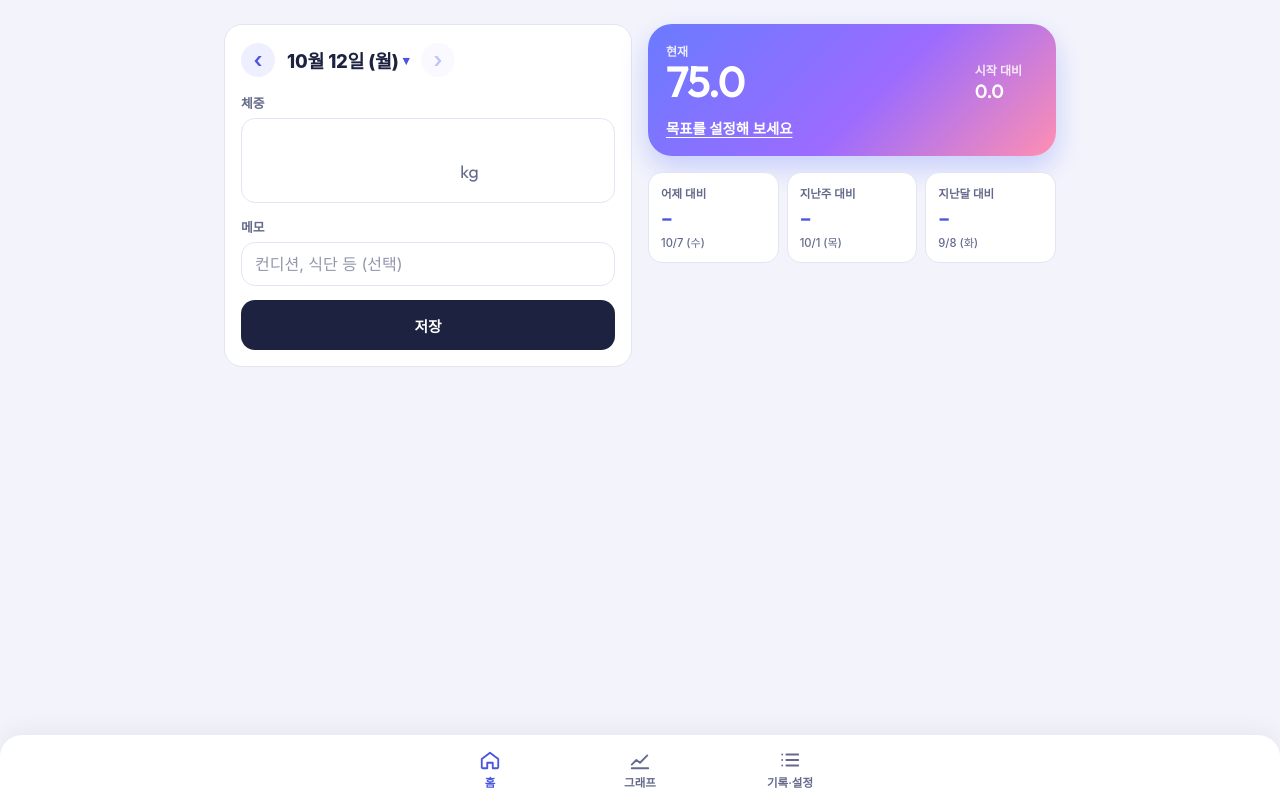
Test case: home screen › opens the calendar from the date title instead of a separate date field
The width and height of the screenshot is (1280, 800).
Expected: the navigation bar is shown, [0,735,1279,799]
Click the button "10월 12일 (월) ▾" at (348, 60), box [279,41,417,79]
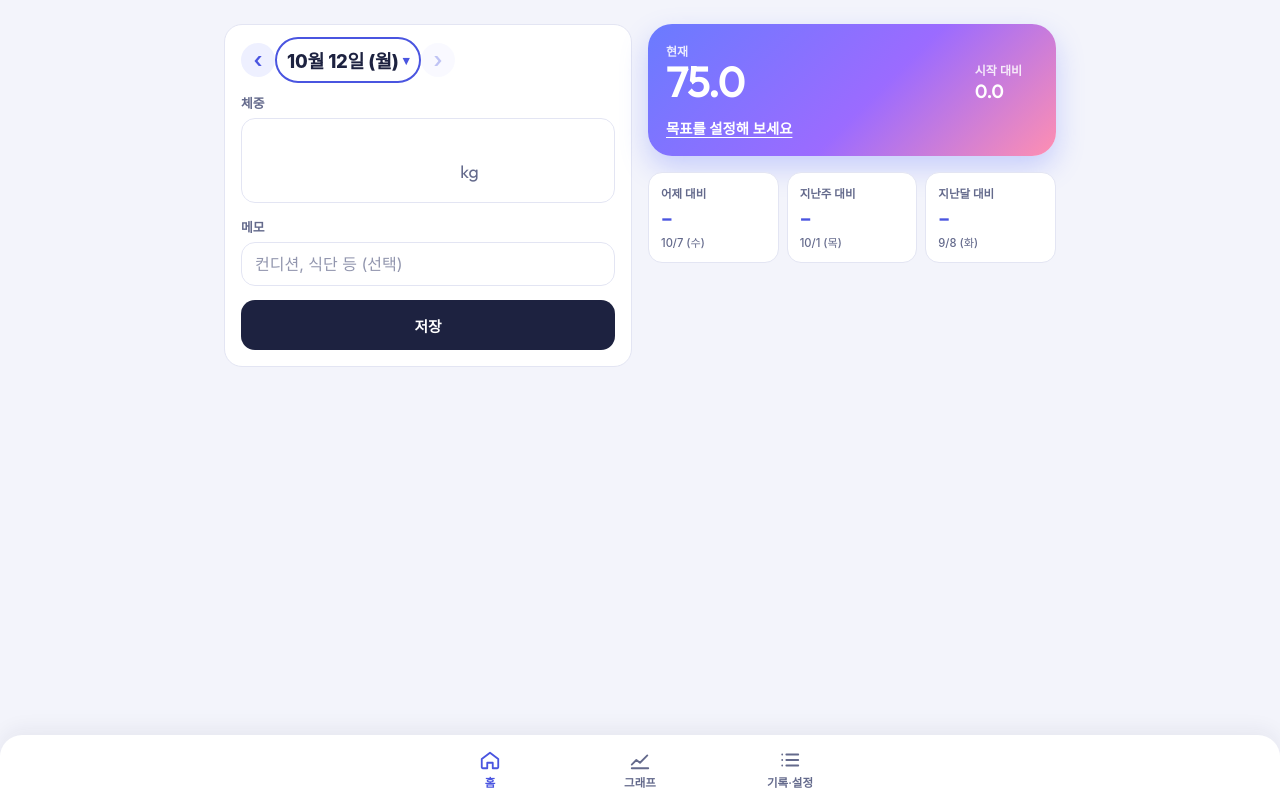
Type "2026-10-08" into the date field named "날짜" at (348, 60), box [279,41,417,79]
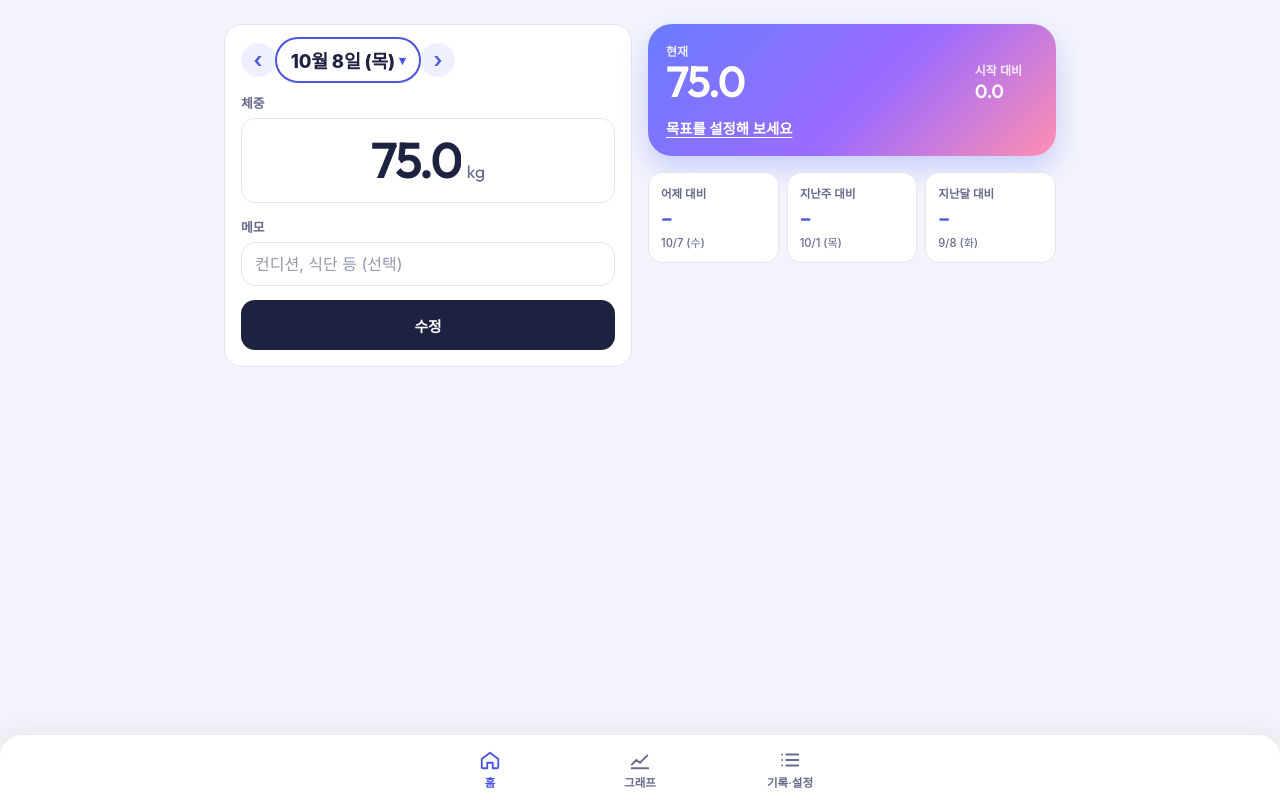
Result: the button "10월 8일 (목) ▾" is shown at [279,41,417,79]
Result: the field named "체중(kg)" holds "75.0" at [371,133,461,188]
